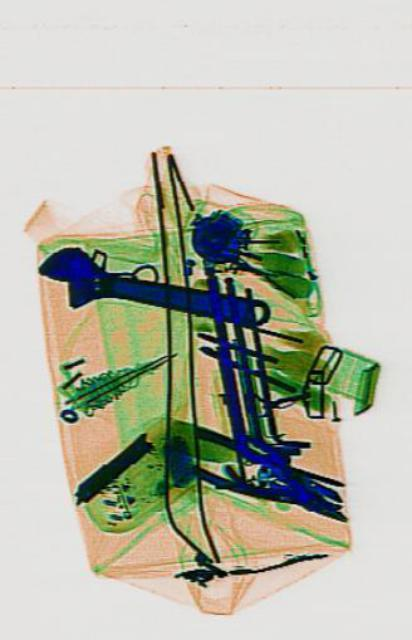Pliers: (183, 421, 350, 541)
Wrench: (34, 238, 271, 346)
